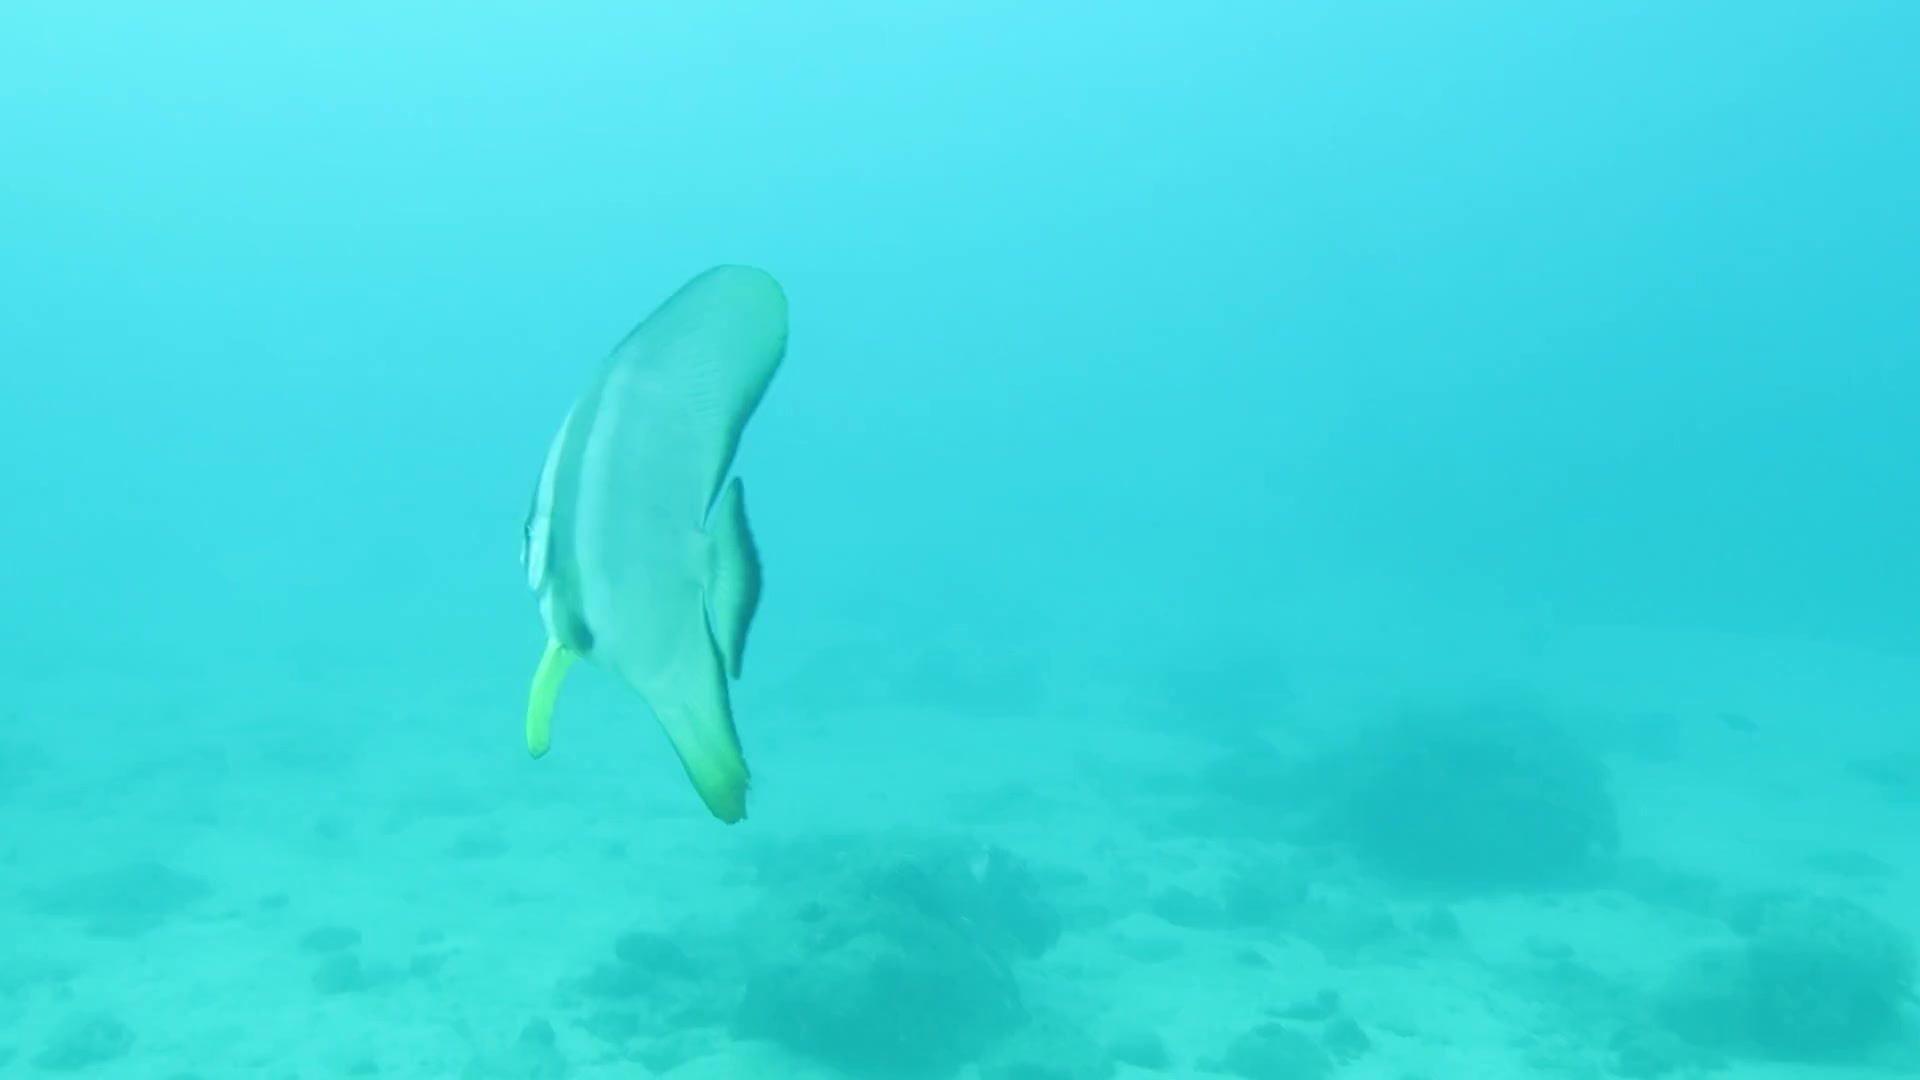Platax teira: (371, 162, 923, 936)
